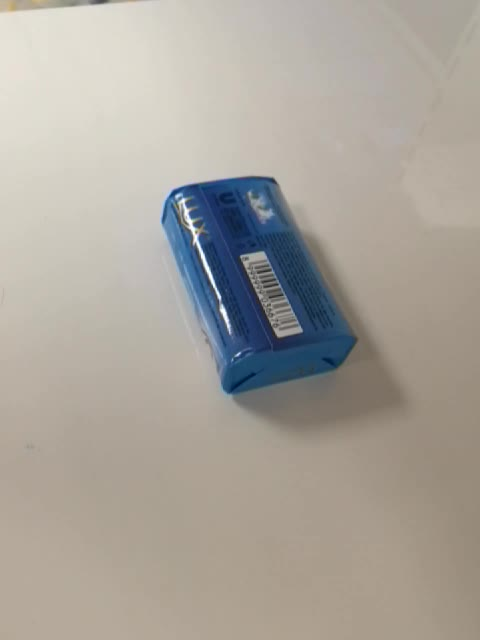soap: (160, 172, 361, 397)
